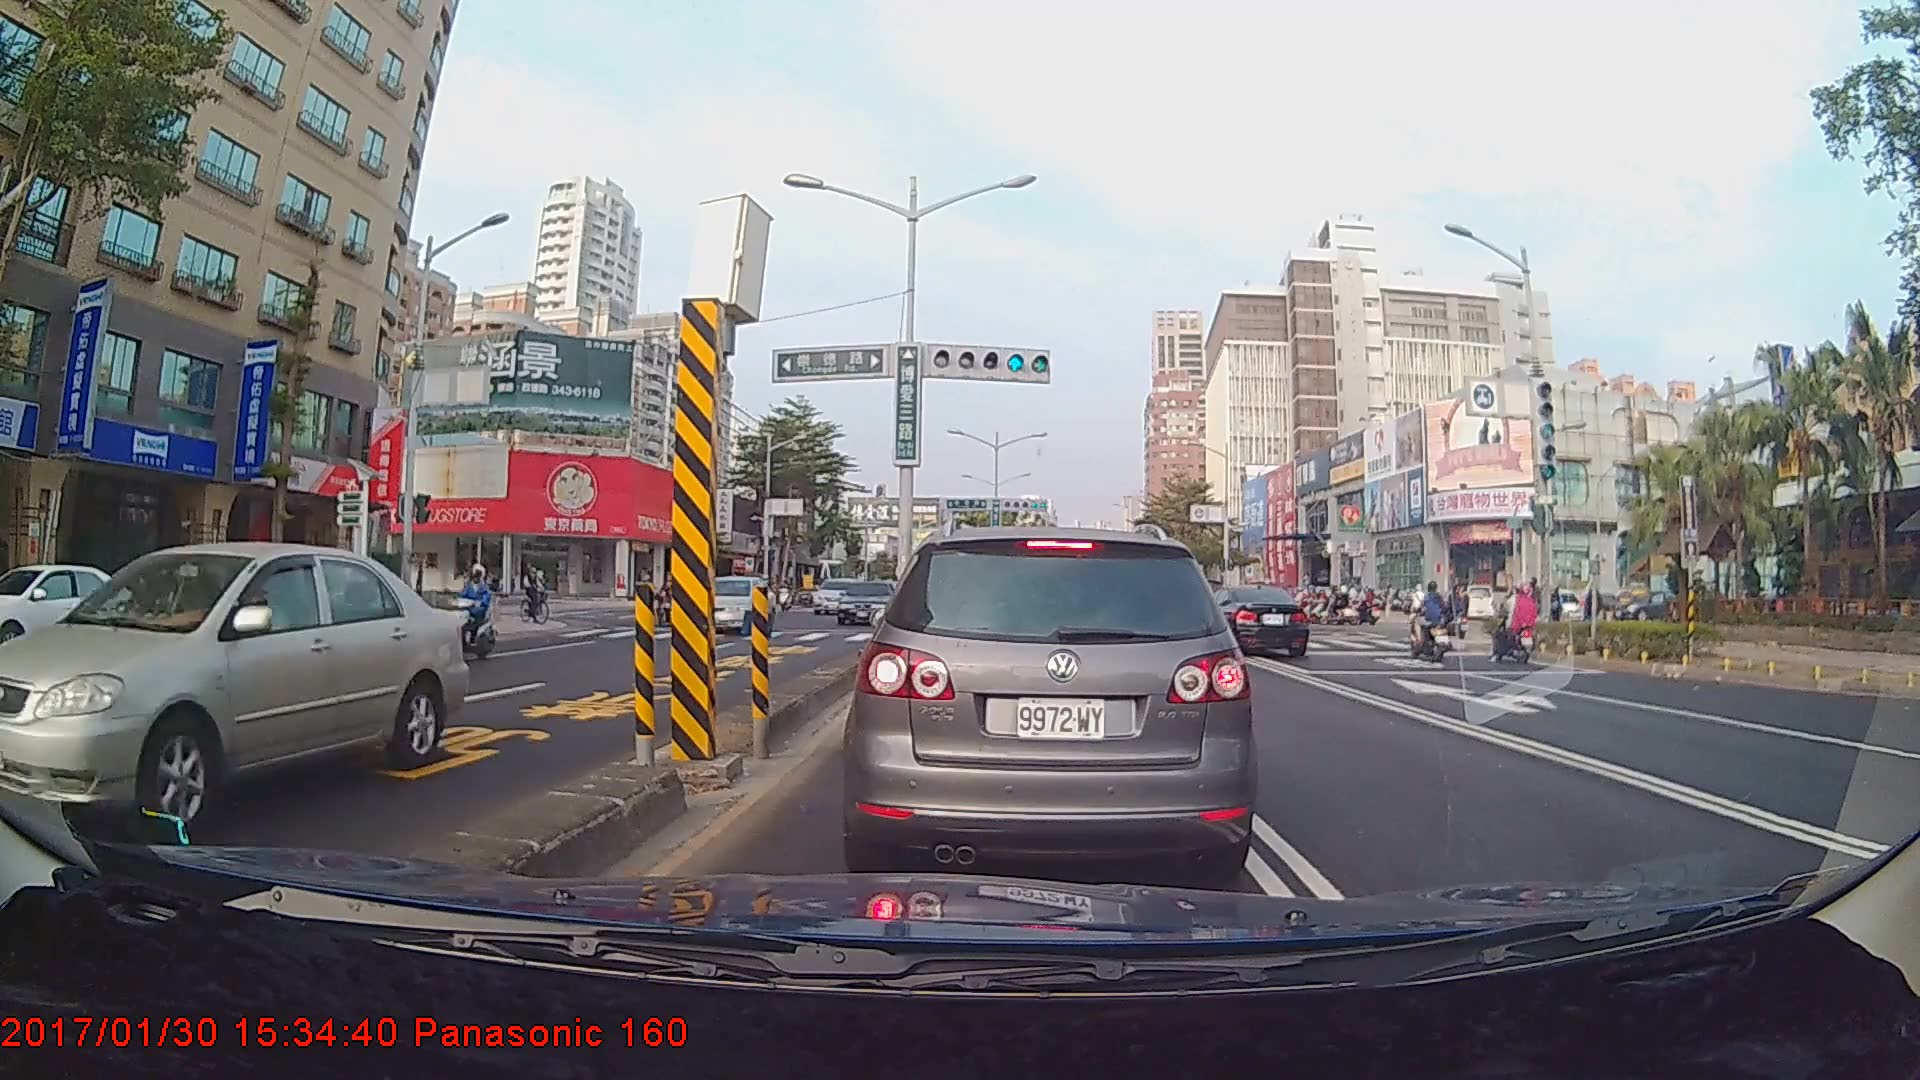rider: (442, 560, 504, 659), (1485, 582, 1548, 668), (1404, 580, 1461, 662), (518, 559, 561, 629), (1436, 582, 1473, 646)
vehicle: (854, 522, 1250, 884), (0, 541, 470, 840), (0, 561, 157, 671), (1189, 582, 1310, 659), (678, 574, 777, 634), (835, 577, 902, 626), (812, 577, 866, 615)
